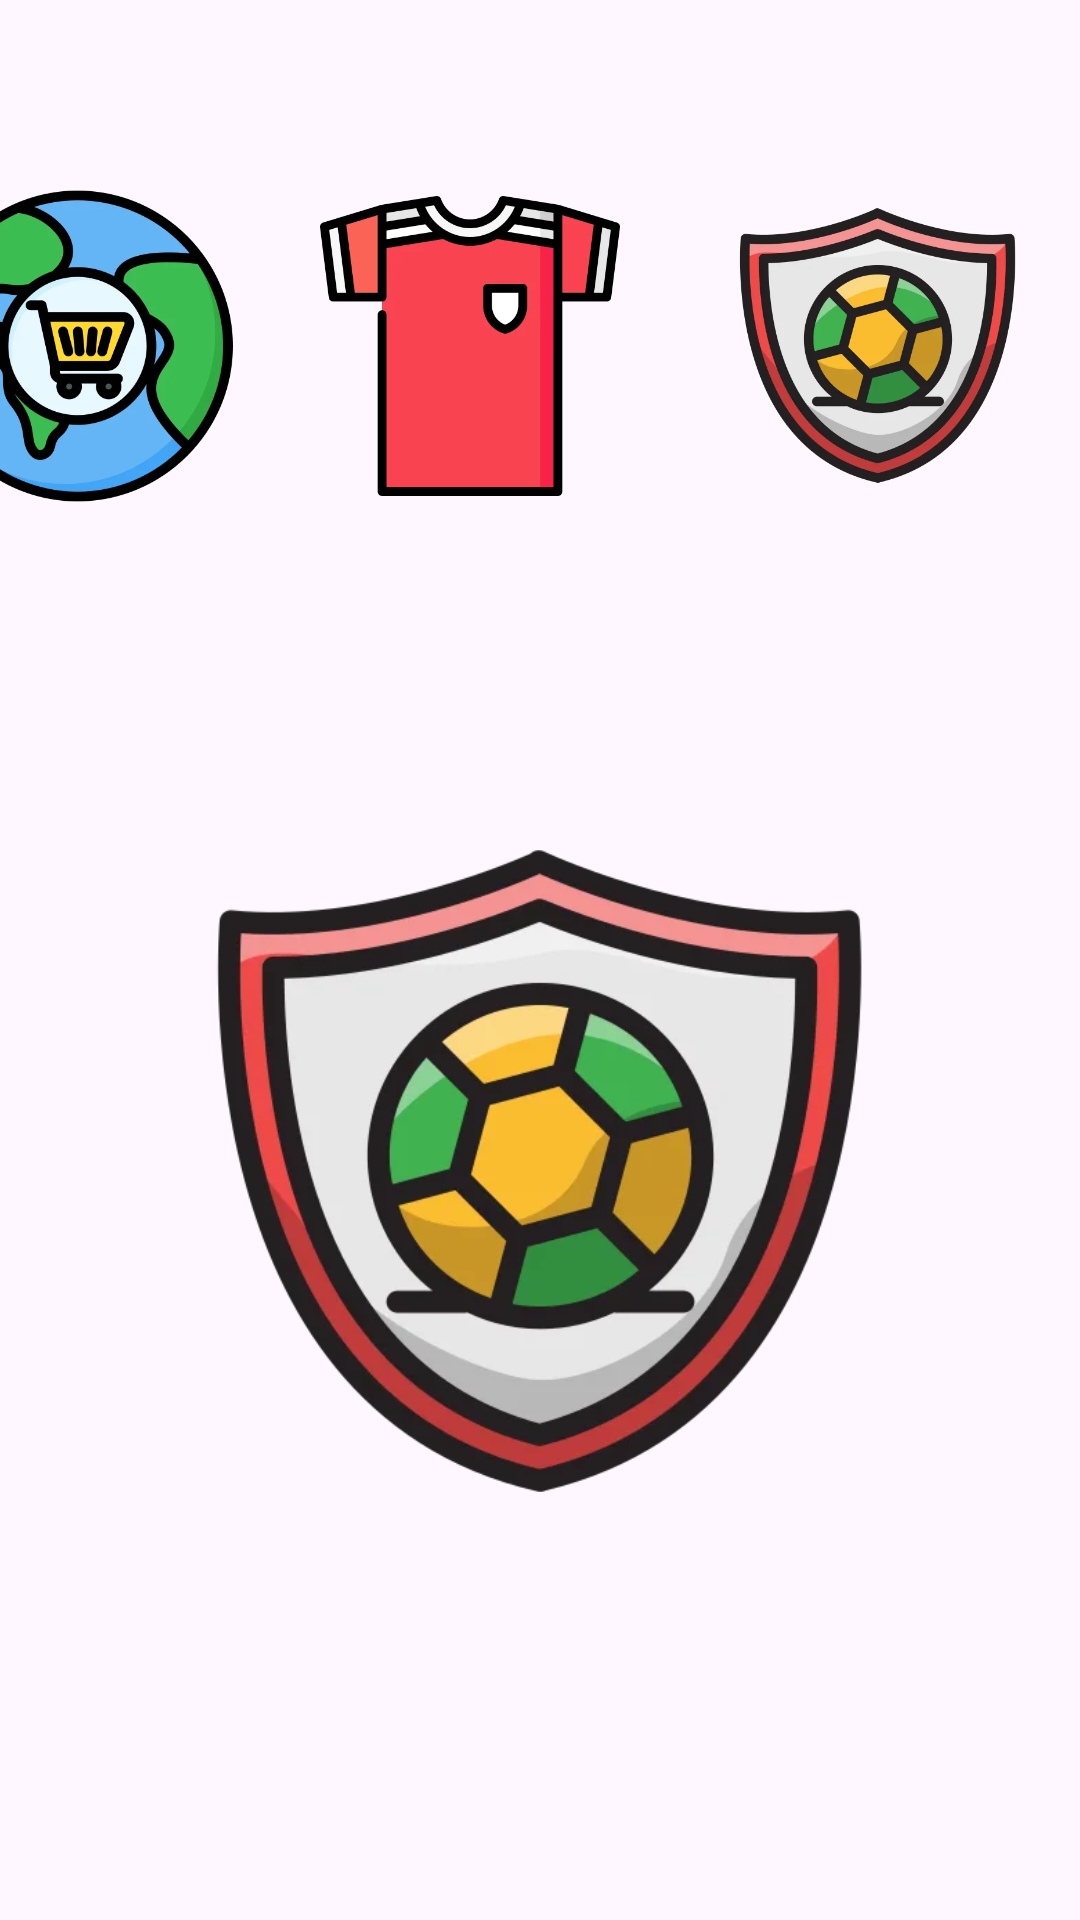

Screen size 1080*1920. Icon name, then its center in pixels as point (x, y):
plantilla: point (470, 346)
